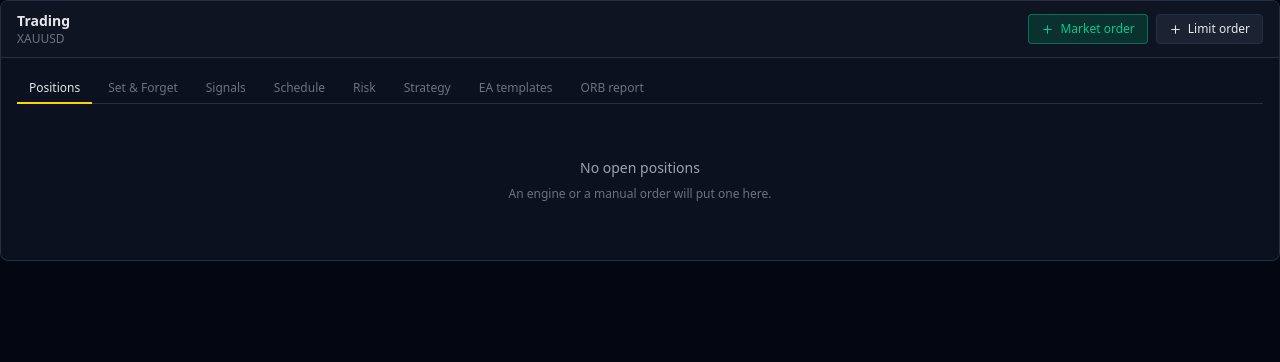
Test: EA templates › says templates still save when no EA is connected
Click the tab "EA templates": (516, 89) [467,74,564,104]
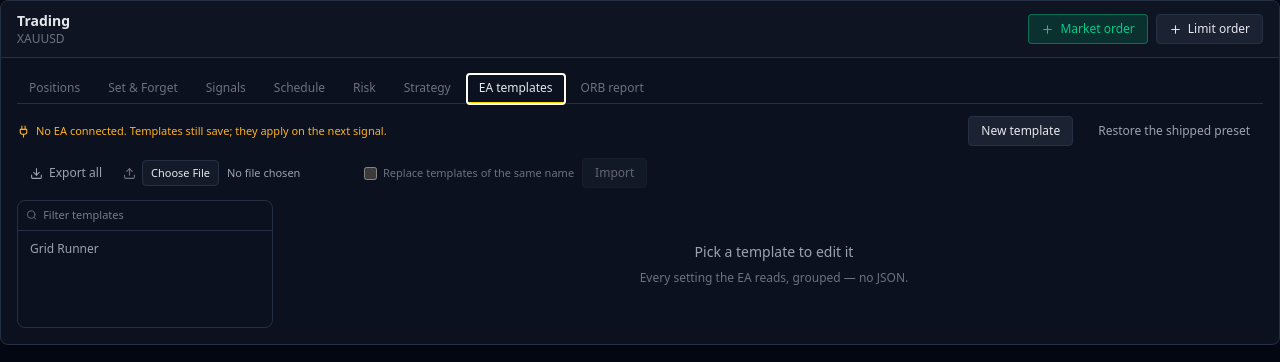
Expected: the text "apply on the next signal" is shown, [36,123,387,138]
